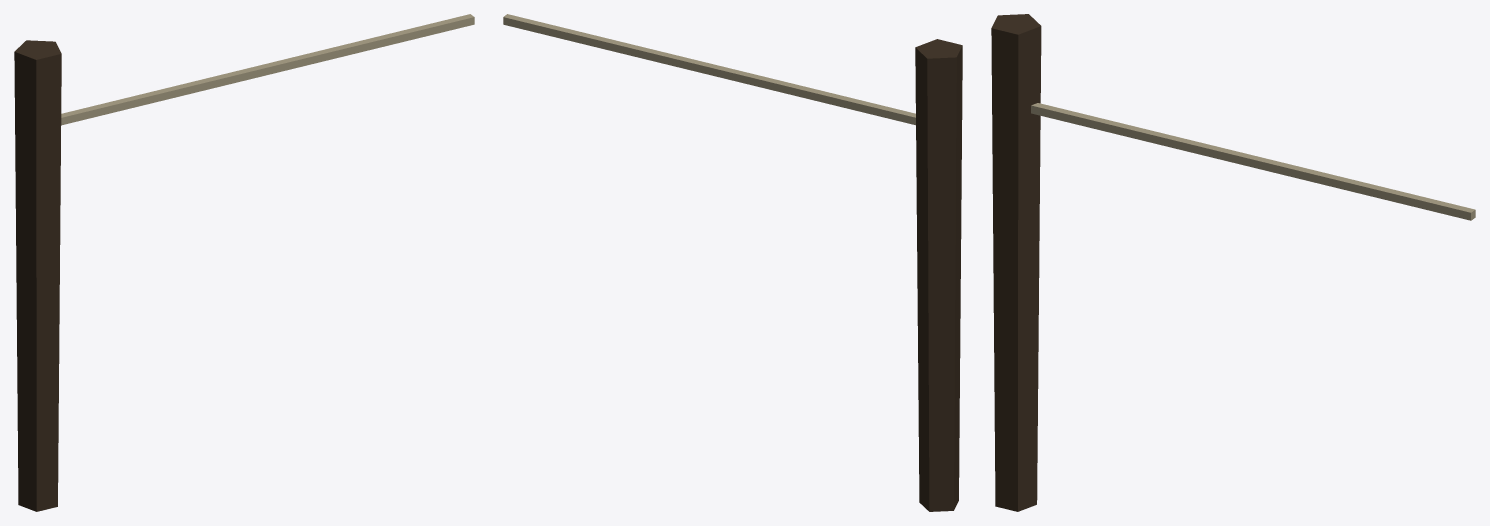
File: s2_queue_stake.glb
3 views of the same model, side by side, from view 1: azimuth 30°, elevation 25°; view 2: azimuth 150°, elevation 25°; view 3: azimuth 330°, elevation 25° (orthographic). The views are drawn at different scales.
Parts seen in each view (by area): view 1: s2_queue_stake; view 2: s2_queue_stake; view 3: s2_queue_stake.
Boxes of the visible parts, x1,y1,x2,y2 form: s2_queue_stake: (14,14,474,511); s2_queue_stake: (503,14,962,511); s2_queue_stake: (991,14,1475,511).
Size of the model in its own units: 1.26 by 1.2 by 0.1085.
